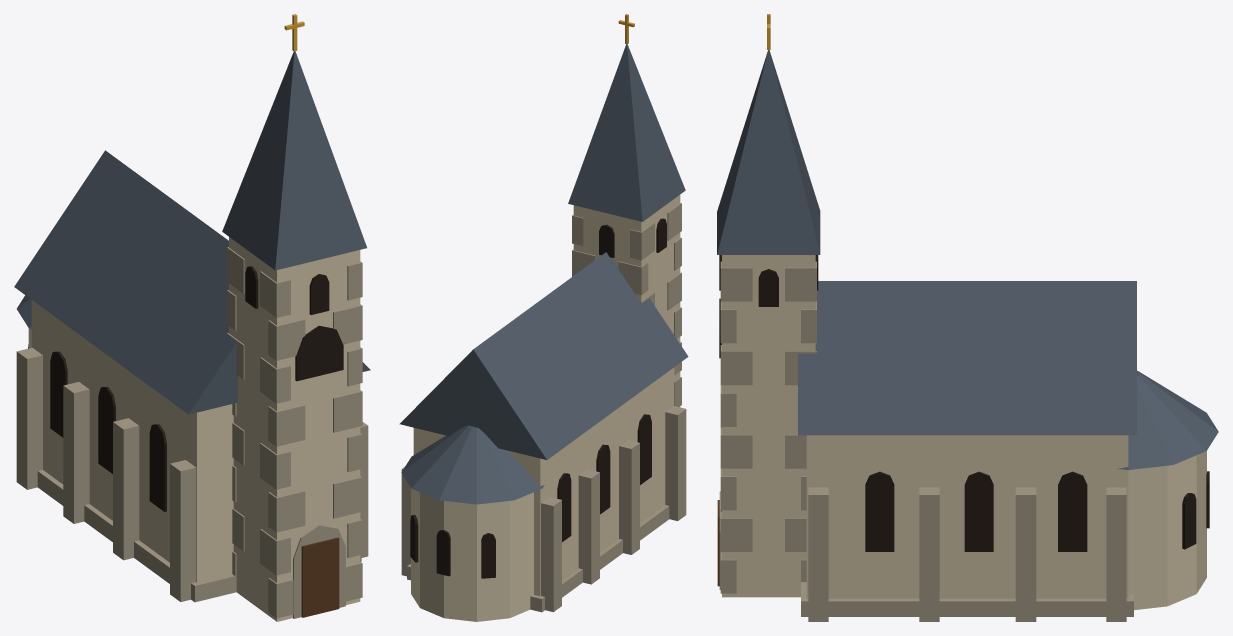
The model's file is castle_chapel.glb.
The picture shows the model from 3 angles, left to right: view 1: azimuth 30°, elevation 25°; view 2: azimuth 150°, elevation 25°; view 3: azimuth 270°, elevation 25°; orthographic projection. The views are drawn at different scales.
Visible parts, largest first — view 1: castle_chapel; view 2: castle_chapel; view 3: castle_chapel.
Part boxes in pixels (bbox=[...]): castle_chapel: bbox=[14, 14, 370, 621]; castle_chapel: bbox=[399, 14, 688, 621]; castle_chapel: bbox=[717, 14, 1218, 621].
Bounding box in the file's own units: 7.2 × 21.25 × 17.17.
